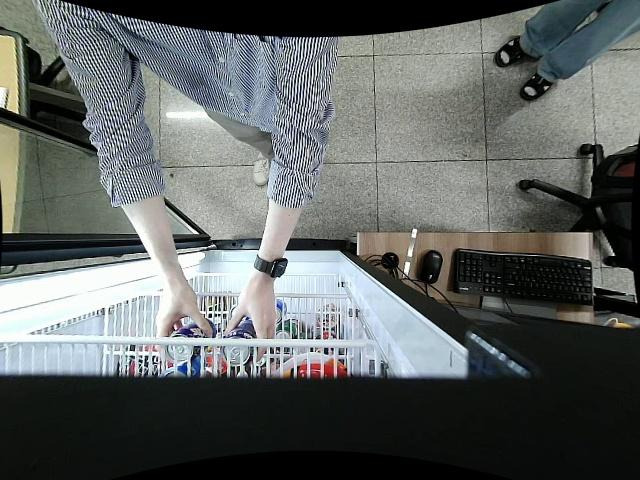00_hand: (154, 281, 211, 366), (228, 286, 277, 359)
14_welchsGrape: (163, 315, 214, 361), (219, 315, 254, 363)
